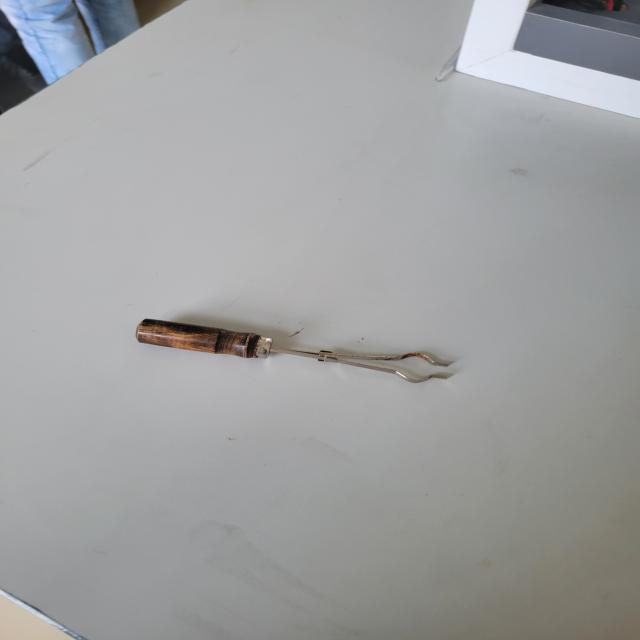TestTube_Holder: (111, 292, 480, 431)
